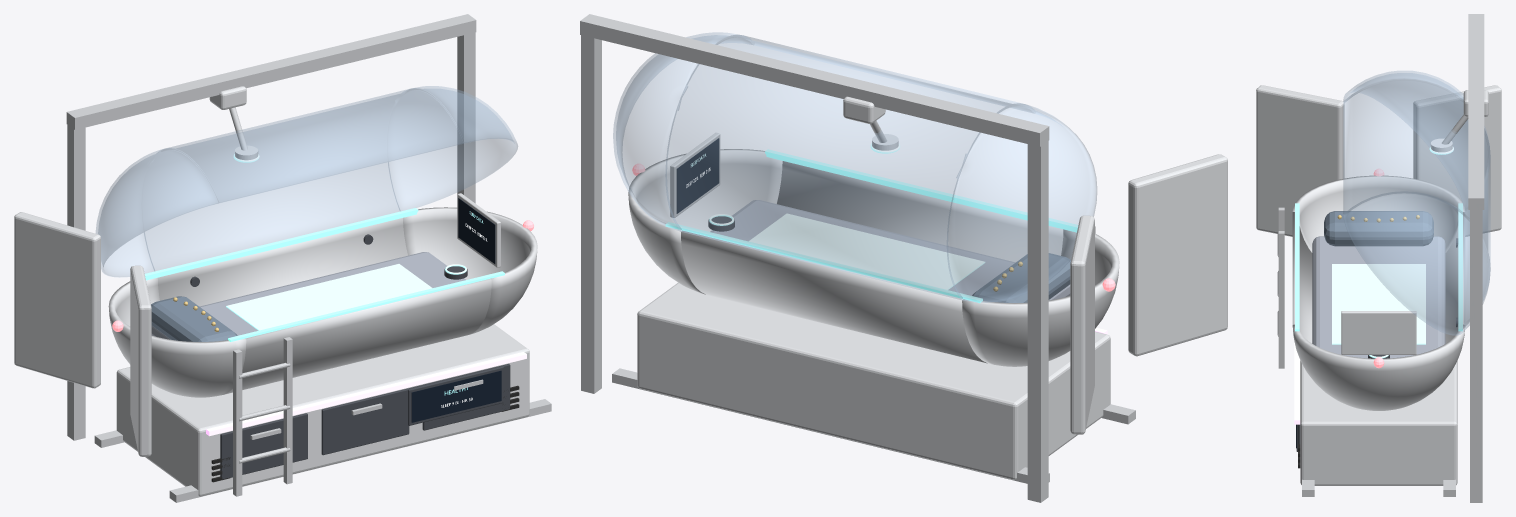
Rendered from recovery_pod_healthy.glb.
3 views of the same model, side by side, from view 1: azimuth 30°, elevation 25°; view 2: azimuth 150°, elevation 25°; view 3: azimuth 270°, elevation 25° (orthographic). The views are drawn at different scales.
Parts seen in each view (by area): view 1: Smart_Canopy, Pod_Shell, Pod_Base, Privacy_Wing.001, Gantry_Beam, Sleep_Sensor_Mat, Storage_Drawer.001, Privacy_Wing, Mattress, Gantry_Post.001, Gantry_Post, Storage_Drawer (+13 smaller); view 2: Smart_Canopy, Pod_Base, Pod_Shell, Privacy_Wing, Gantry_Beam, Gantry_Post, Sleep_Sensor_Mat, Gantry_Post.001, Privacy_Wing.001, Mattress, Circadian_Strip, EEG_Headrest (+5 smaller); view 3: Smart_Canopy, Pod_Shell, Pod_Base, Privacy_Wing, Privacy_Wing.001, Mattress, Sleep_Sensor_Mat, Gantry_Post.001, EEG_Headrest, Foot_Screen_Bezel, Gantry_Beam, Ladder_Rail.001 (+4 smaller).
Boxes of the visible parts, left/top/right/bottom form: Smart_Canopy: left=96, top=86, right=517, bottom=277; Pod_Shell: left=108, top=207, right=537, bottom=397; Pod_Base: left=116, top=324, right=529, bottom=496; Privacy_Wing.001: left=14, top=212, right=100, bottom=388; Gantry_Beam: left=66, top=14, right=476, bottom=129; Sleep_Sensor_Mat: left=226, top=264, right=432, bottom=330; Storage_Drawer.001: left=321, top=388, right=409, bottom=455; Privacy_Wing: left=130, top=265, right=151, bottom=456; Mattress: left=151, top=252, right=465, bottom=339; Gantry_Post.001: left=457, top=32, right=475, bottom=203; Gantry_Post: left=67, top=119, right=85, bottom=440; Storage_Drawer: left=220, top=413, right=307, bottom=479; Smart_Canopy: left=613, top=32, right=1096, bottom=302; Pod_Base: left=637, top=282, right=1110, bottom=479; Pod_Shell: left=628, top=149, right=1119, bottom=366; Privacy_Wing: left=1128, top=154, right=1227, bottom=356; Gantry_Beam: left=580, top=14, right=1049, bottom=146; Gantry_Post: left=1027, top=134, right=1048, bottom=502; Sleep_Sensor_Mat: left=749, top=213, right=985, bottom=289; Gantry_Post.001: left=581, top=35, right=601, bottom=393; Privacy_Wing.001: left=1070, top=215, right=1094, bottom=434; Mattress: left=710, top=200, right=1070, bottom=300; Circadian_Strip: left=765, top=149, right=1078, bottom=232; EEG_Headrest: left=972, top=253, right=1070, bottom=302; Smart_Canopy: left=1343, top=71, right=1490, bottom=335; Pod_Shell: left=1292, top=175, right=1464, bottom=410; Pod_Base: left=1300, top=360, right=1457, bottom=485; Privacy_Wing: left=1256, top=85, right=1344, bottom=236; Privacy_Wing.001: left=1413, top=85, right=1501, bottom=236; Mattress: left=1312, top=236, right=1445, bottom=358; Sleep_Sensor_Mat: left=1332, top=264, right=1425, bottom=344; Gantry_Post.001: left=1470, top=204, right=1482, bottom=502; EEG_Headrest: left=1324, top=211, right=1433, bottom=246; Foot_Screen_Bezel: left=1341, top=311, right=1416, bottom=354; Gantry_Beam: left=1468, top=14, right=1484, bottom=209; Ladder_Rail.001: left=1278, top=231, right=1284, bottom=368.
Bounding box in the file's own units: 3.16 × 2.14 × 1.56.
